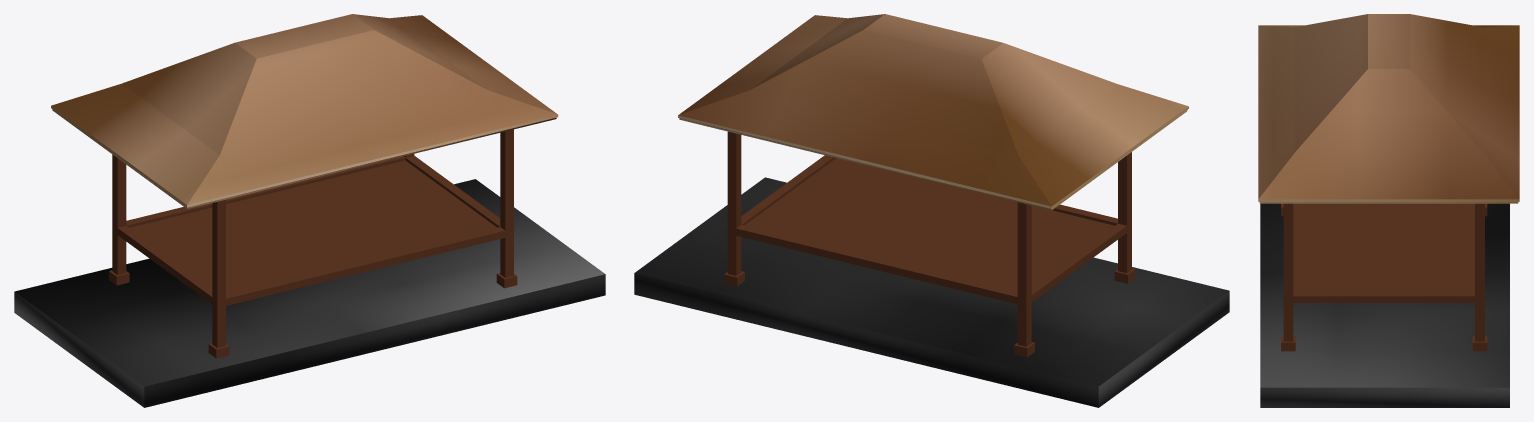
The model's file is Bangunan Lumbung Padi.fbx.
The picture shows the model from 3 angles, left to right: view 1: azimuth 30°, elevation 25°; view 2: azimuth 150°, elevation 25°; view 3: azimuth 270°, elevation 25°; orthographic projection. The views are drawn at different scales.
Parts seen in each view (by area): view 1: Atap Lumbung Padi, Pondasi Lumbung Padi, Tiang Lumbung Padi; view 2: Atap Lumbung Padi, Pondasi Lumbung Padi, Tiang Lumbung Padi; view 3: Atap Lumbung Padi, Pondasi Lumbung Padi, Tiang Lumbung Padi.
Part boxes in pixels (bbox=[...]): Atap Lumbung Padi: bbox=[51, 14, 558, 208]; Pondasi Lumbung Padi: bbox=[14, 179, 605, 407]; Tiang Lumbung Padi: bbox=[109, 129, 517, 358]; Atap Lumbung Padi: bbox=[678, 14, 1188, 210]; Pondasi Lumbung Padi: bbox=[634, 177, 1229, 407]; Tiang Lumbung Padi: bbox=[724, 131, 1135, 357]; Atap Lumbung Padi: bbox=[1258, 14, 1519, 203]; Pondasi Lumbung Padi: bbox=[1260, 203, 1509, 407]; Tiang Lumbung Padi: bbox=[1281, 203, 1487, 351].
Bounding box in the file's own units: 11.86 × 6.56 × 6.05.
